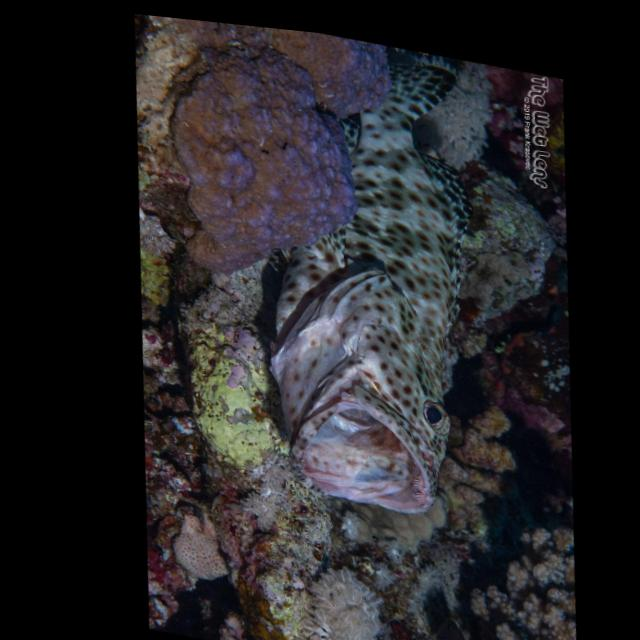Groupers: (223, 23, 514, 533)
